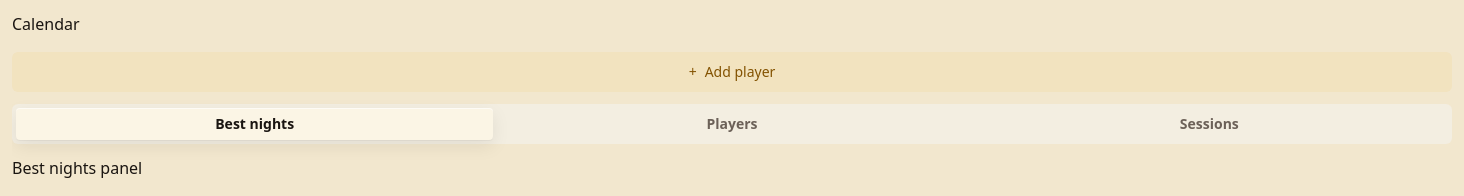
Scenario: GroupRail › shows one panel at a time behind a segmented control on phones
Expected: the tab "Best nights" is shown, [16,108,493,140]
Expected: the panel reads "Best nights panel", [12,157,142,179]
Click the tab "Sessions" at (1209, 124), box [971,108,1448,140]
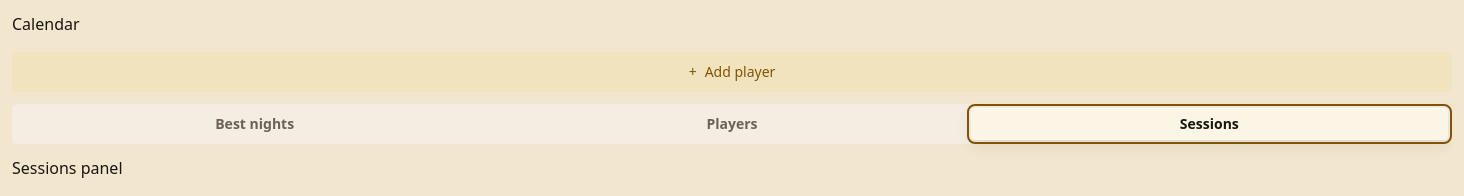
Now the panel reads "Sessions panel", box [12,157,122,179]
